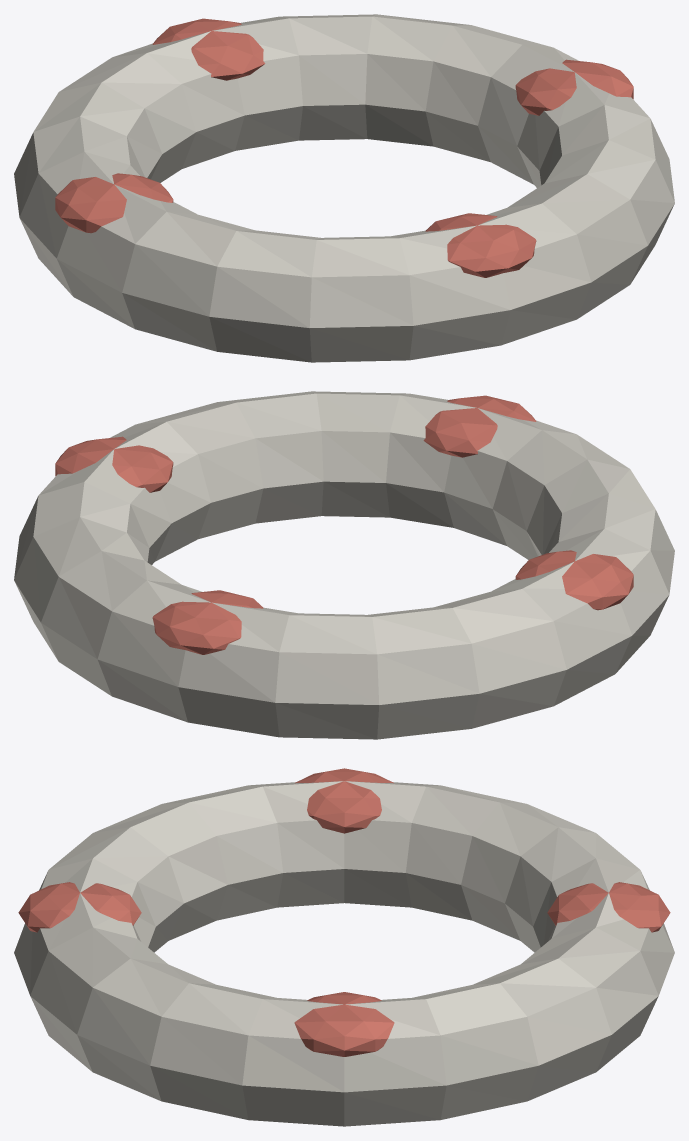
Rendered from life_ring.glb.
3 renders of one model, top to bottom at view 1: azimuth 30°, elevation 25°; view 2: azimuth 150°, elevation 25°; view 3: azimuth 270°, elevation 25°, orthographic.
Visible parts, largest first — view 1: ring, red_mark_3, red_mark_2, red_mark_1, red_mark_0; view 2: ring, red_mark_1, red_mark_2, red_mark_3, red_mark_0; view 3: ring, red_mark_0, red_mark_2, red_mark_1, red_mark_3.
Boxes of the visible parts, x1,y1,x2,y2 form: ring: [14, 14, 674, 362]; red_mark_3: [425, 213, 536, 277]; red_mark_2: [55, 173, 173, 233]; red_mark_1: [152, 18, 265, 80]; red_mark_0: [515, 59, 633, 115]; ring: [14, 391, 674, 739]; red_mark_1: [152, 590, 263, 654]; red_mark_2: [515, 550, 633, 610]; red_mark_3: [423, 395, 536, 457]; red_mark_0: [55, 436, 173, 492]; ring: [14, 781, 674, 1126]; red_mark_0: [294, 992, 394, 1056]; red_mark_2: [295, 768, 393, 833]; red_mark_1: [547, 882, 670, 932]; red_mark_3: [18, 882, 141, 932].
Bounding box in the file's own units: 0.75 × 0.15 × 0.75.
